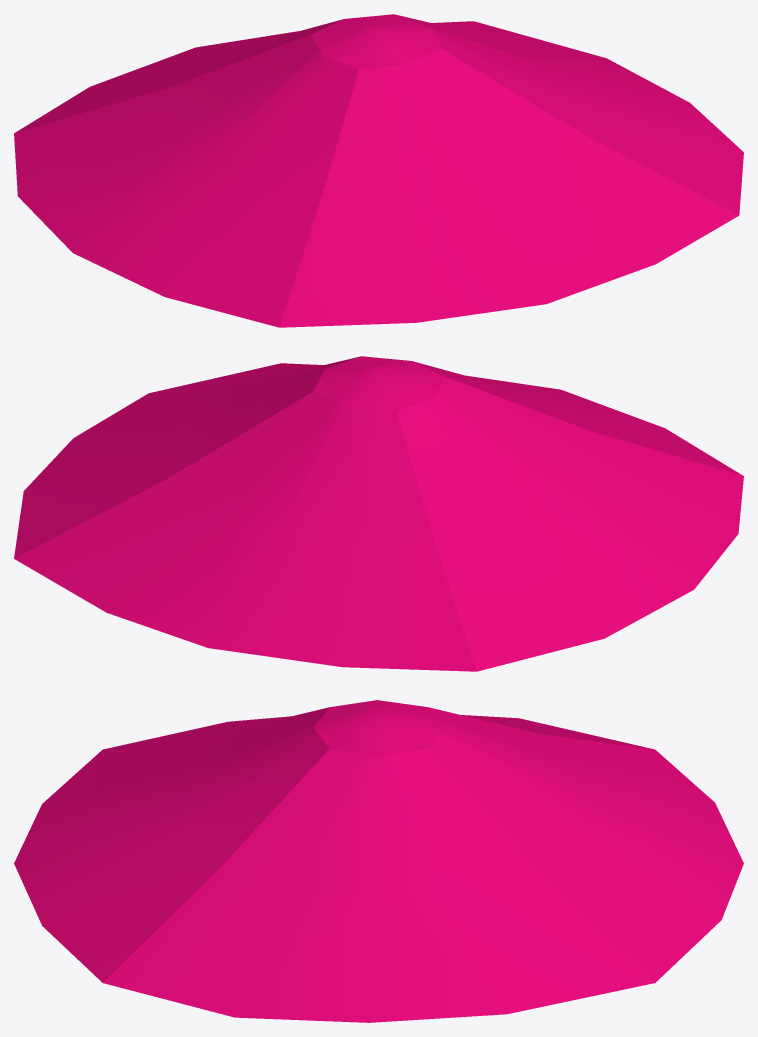
Rendered from Wood_Ash_B.fbx.
3 renders of one model, top to bottom at view 1: azimuth 30°, elevation 25°; view 2: azimuth 150°, elevation 25°; view 3: azimuth 270°, elevation 25°, orthographic. The views are drawn at different scales.
Visible parts, largest first — view 1: Wood_Ash_B; view 2: Wood_Ash_B; view 3: Wood_Ash_B.
Boxes of the visible parts, <box> form: Wood_Ash_B: <box>14,14,743,327</box>; Wood_Ash_B: <box>14,356,743,671</box>; Wood_Ash_B: <box>14,700,743,1022</box>.
Bounding box in the file's own units: 52.45 × 11.94 × 51.66.
